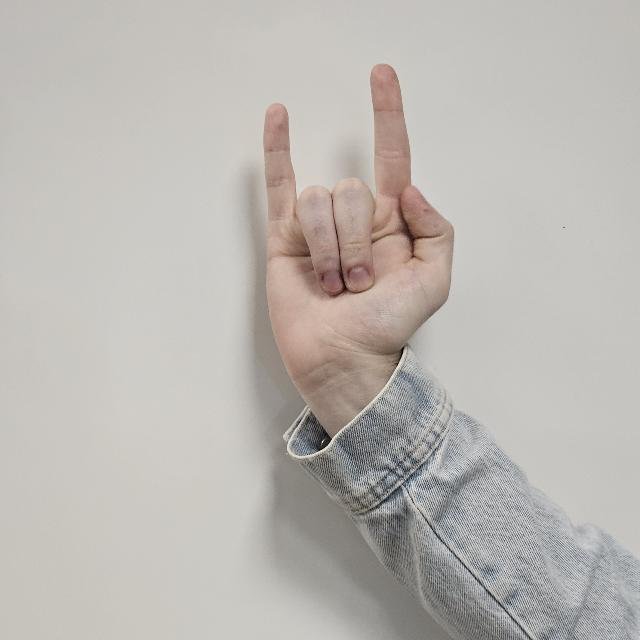L: (258, 59, 454, 398)
